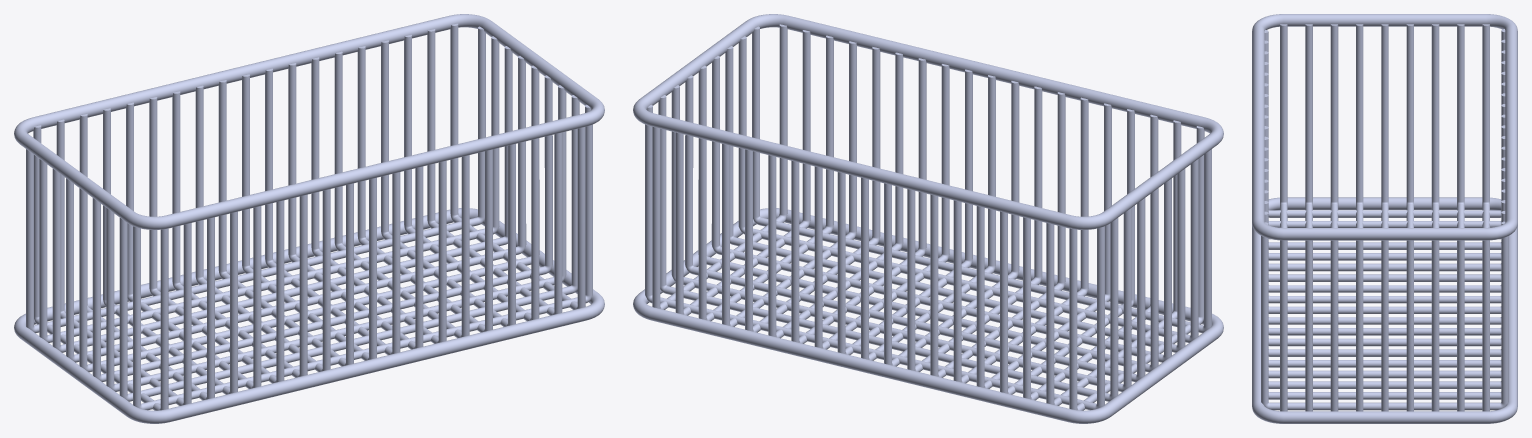
The model's file is cage.dae.
The picture shows the model from 3 angles, left to right: view 1: azimuth 30°, elevation 25°; view 2: azimuth 150°, elevation 25°; view 3: azimuth 270°, elevation 25°; orthographic projection. The views are drawn at different scales.
Parts seen in each view (by area): view 1: node0; view 2: node0; view 3: node0.
Part boxes in pixels (<box>): node0: <box>14,14,604,423</box>; node0: <box>633,14,1223,423</box>; node0: <box>1252,14,1517,423</box>.
Bounding box in the file's own units: 0.205 × 0.085 × 0.105.
